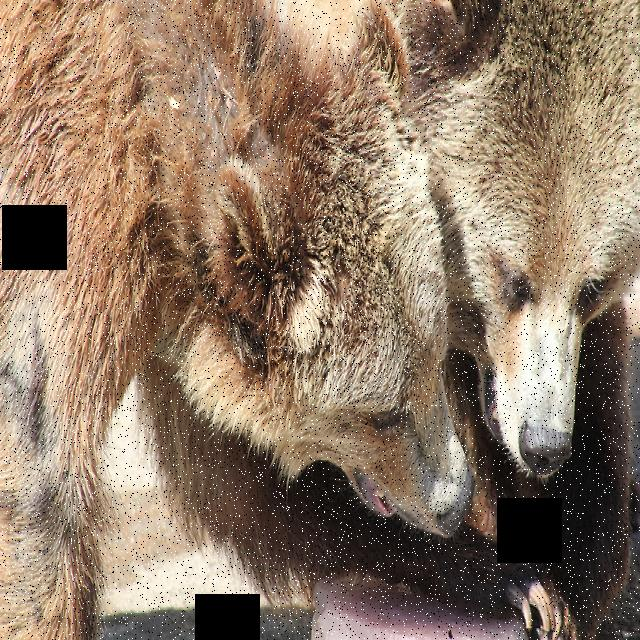Bear: (0, 18, 473, 640), (339, 0, 632, 640)
